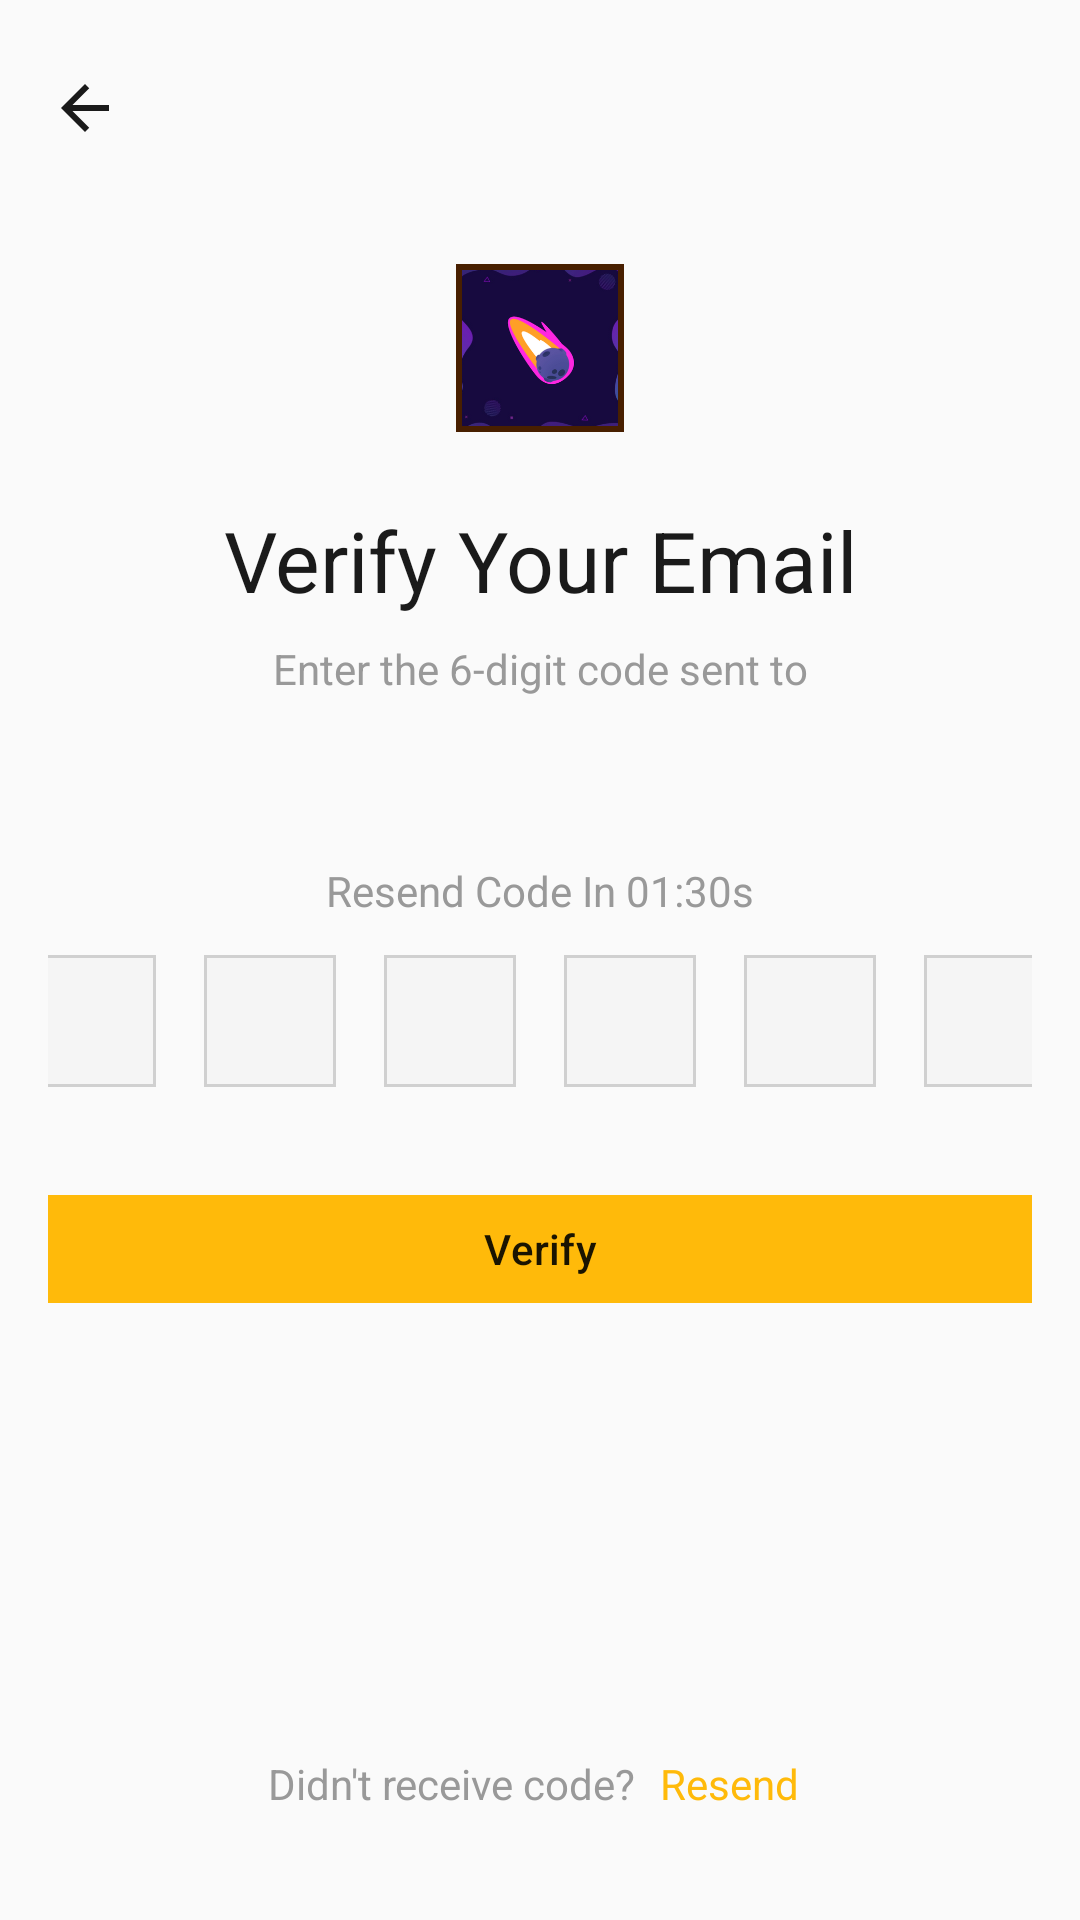

Icon bounding boxes for this 1080*1920 phone screenshot, format (x1, y1, x2, y2):
Back: (61, 84, 109, 132)
